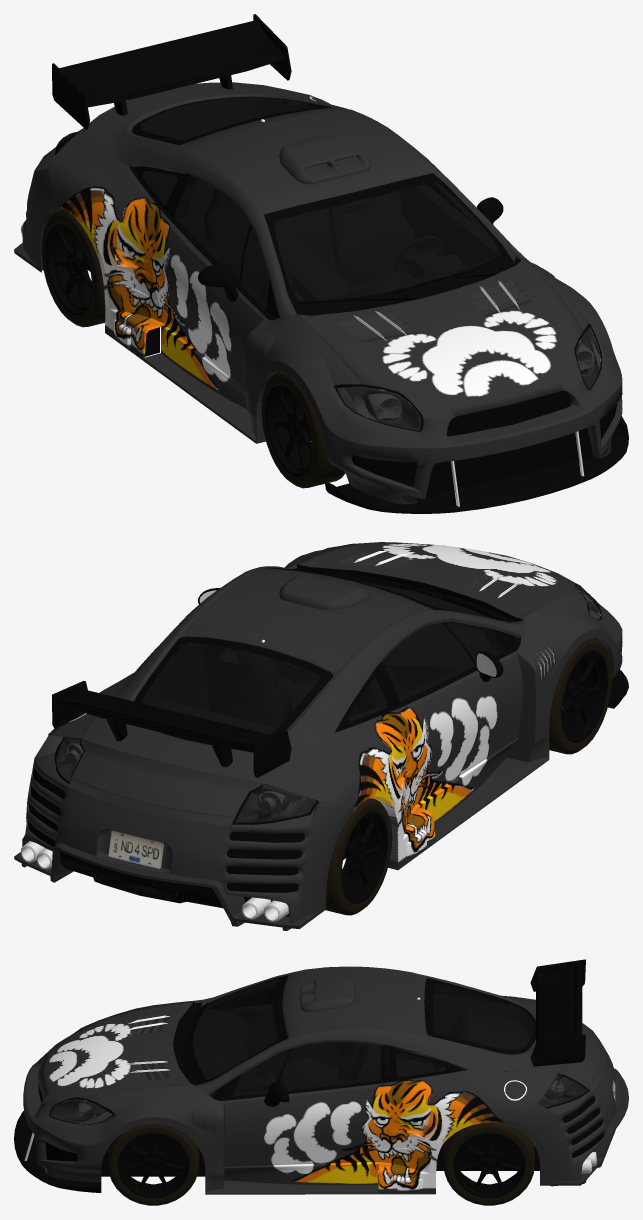
Rendered from car.glb.
3 renders of one model, top to bottom at view 1: azimuth 30°, elevation 25°; view 2: azimuth 150°, elevation 25°; view 3: azimuth 270°, elevation 25°, orthographic. The views are drawn at different scales.
Parts seen in each view (by area): view 1: STYLE13_HOOD_A, KIT00_REAR_LEFT_WINDOW_A.002, SPOILER_STYLE16_A.002, KIT05_BODY_A.019, KIT05_BODY_A.006, KIT00_REAR_LEFT_WINDOW_A.001, ROJA_STYLE03_17_25_A.002, ROJA_STYLE03_17_25_A.003, KIT00_LEFT_BRAKELIGHT_A.012, BASE_A.008, KIT00_LEFT_HEADLIGHT_A, KIT00_LEFT_SIDE_MIRROR_A (+4 smaller); view 2: STYLE13_HOOD_A, KIT00_REAR_LEFT_WINDOW_A.002, SPOILER_STYLE16_A.002, ROJA_STYLE03_17_25_A.002, ROJA_STYLE03_17_25_A.003, KIT05_BODY_A.019, KIT00_REAR_LEFT_WINDOW_A.001, KIT05_BODY_A.014, KIT00_LEFT_BRAKELIGHT_A.012, KIT05_BODY_A.015, KIT00_LEFT_HEADLIGHT_A, BASE_A.008 (+6 smaller); view 3: STYLE13_HOOD_A, KIT00_REAR_LEFT_WINDOW_A.002, SPOILER_STYLE16_A.002, ROJA_STYLE03_17_25_A.003, ROJA_STYLE03_17_25_A.002, KIT00_REAR_LEFT_WINDOW_A.001, KIT05_BODY_A.003, KIT00_LEFT_BRAKELIGHT_A.012, KIT05_BODY_A.006, BASE_A.008, KIT05_BODY_A.019, KIT00_LEFT_HEADLIGHT_A (+6 smaller).
Boxes of the visible parts, x1,y1,x2,y2 form: STYLE13_HOOD_A: (22, 82, 622, 504); KIT00_REAR_LEFT_WINDOW_A.002: (140, 97, 500, 308); SPOILER_STYLE16_A.002: (52, 14, 291, 129); KIT05_BODY_A.019: (145, 327, 617, 496); KIT05_BODY_A.006: (325, 416, 628, 513); KIT00_REAR_LEFT_WINDOW_A.001: (132, 96, 513, 314); ROJA_STYLE03_17_25_A.002: (45, 224, 312, 476); ROJA_STYLE03_17_25_A.003: (41, 210, 345, 488); KIT00_LEFT_BRAKELIGHT_A.012: (54, 131, 600, 430); BASE_A.008: (128, 165, 279, 320); KIT00_LEFT_HEADLIGHT_A: (61, 137, 599, 430); KIT00_LEFT_SIDE_MIRROR_A: (198, 197, 503, 301); STYLE13_HOOD_A: (22, 542, 622, 922); KIT00_REAR_LEFT_WINDOW_A.002: (141, 567, 504, 734); SPOILER_STYLE16_A.002: (52, 681, 291, 777); ROJA_STYLE03_17_25_A.002: (341, 651, 608, 904); ROJA_STYLE03_17_25_A.003: (325, 638, 612, 915); KIT05_BODY_A.019: (27, 768, 305, 892); KIT00_REAR_LEFT_WINDOW_A.001: (134, 567, 490, 744); KIT05_BODY_A.014: (14, 842, 325, 930); KIT00_LEFT_BRAKELIGHT_A.012: (54, 586, 600, 822); KIT05_BODY_A.015: (60, 851, 222, 908); KIT00_LEFT_HEADLIGHT_A: (56, 586, 599, 822); BASE_A.008: (334, 622, 521, 732); STYLE13_HOOD_A: (23, 966, 619, 1194); KIT00_REAR_LEFT_WINDOW_A.002: (193, 979, 533, 1096); SPOILER_STYLE16_A.002: (530, 959, 585, 1066); ROJA_STYLE03_17_25_A.003: (107, 1123, 534, 1205); ROJA_STYLE03_17_25_A.002: (117, 1133, 525, 1198); KIT00_REAR_LEFT_WINDOW_A.001: (185, 975, 535, 1084); KIT05_BODY_A.003: (101, 1071, 539, 1176); KIT00_LEFT_BRAKELIGHT_A.012: (50, 1022, 586, 1123); KIT05_BODY_A.006: (14, 1111, 101, 1192); BASE_A.008: (209, 1045, 466, 1100); KIT05_BODY_A.019: (38, 1083, 604, 1161); KIT00_LEFT_HEADLIGHT_A: (51, 1073, 586, 1122).
Bounding box in the file's own units: 1.8 × 1.23 × 4.17.
25 materials, 2 textured.
